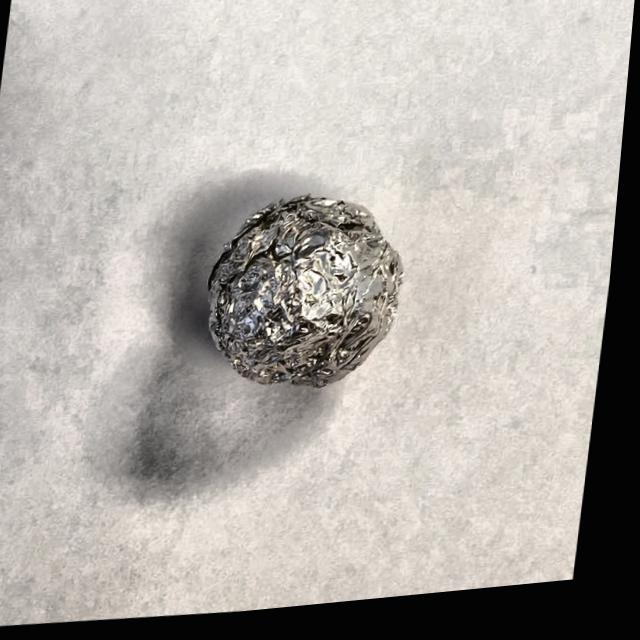Foil: (192, 171, 428, 423)
